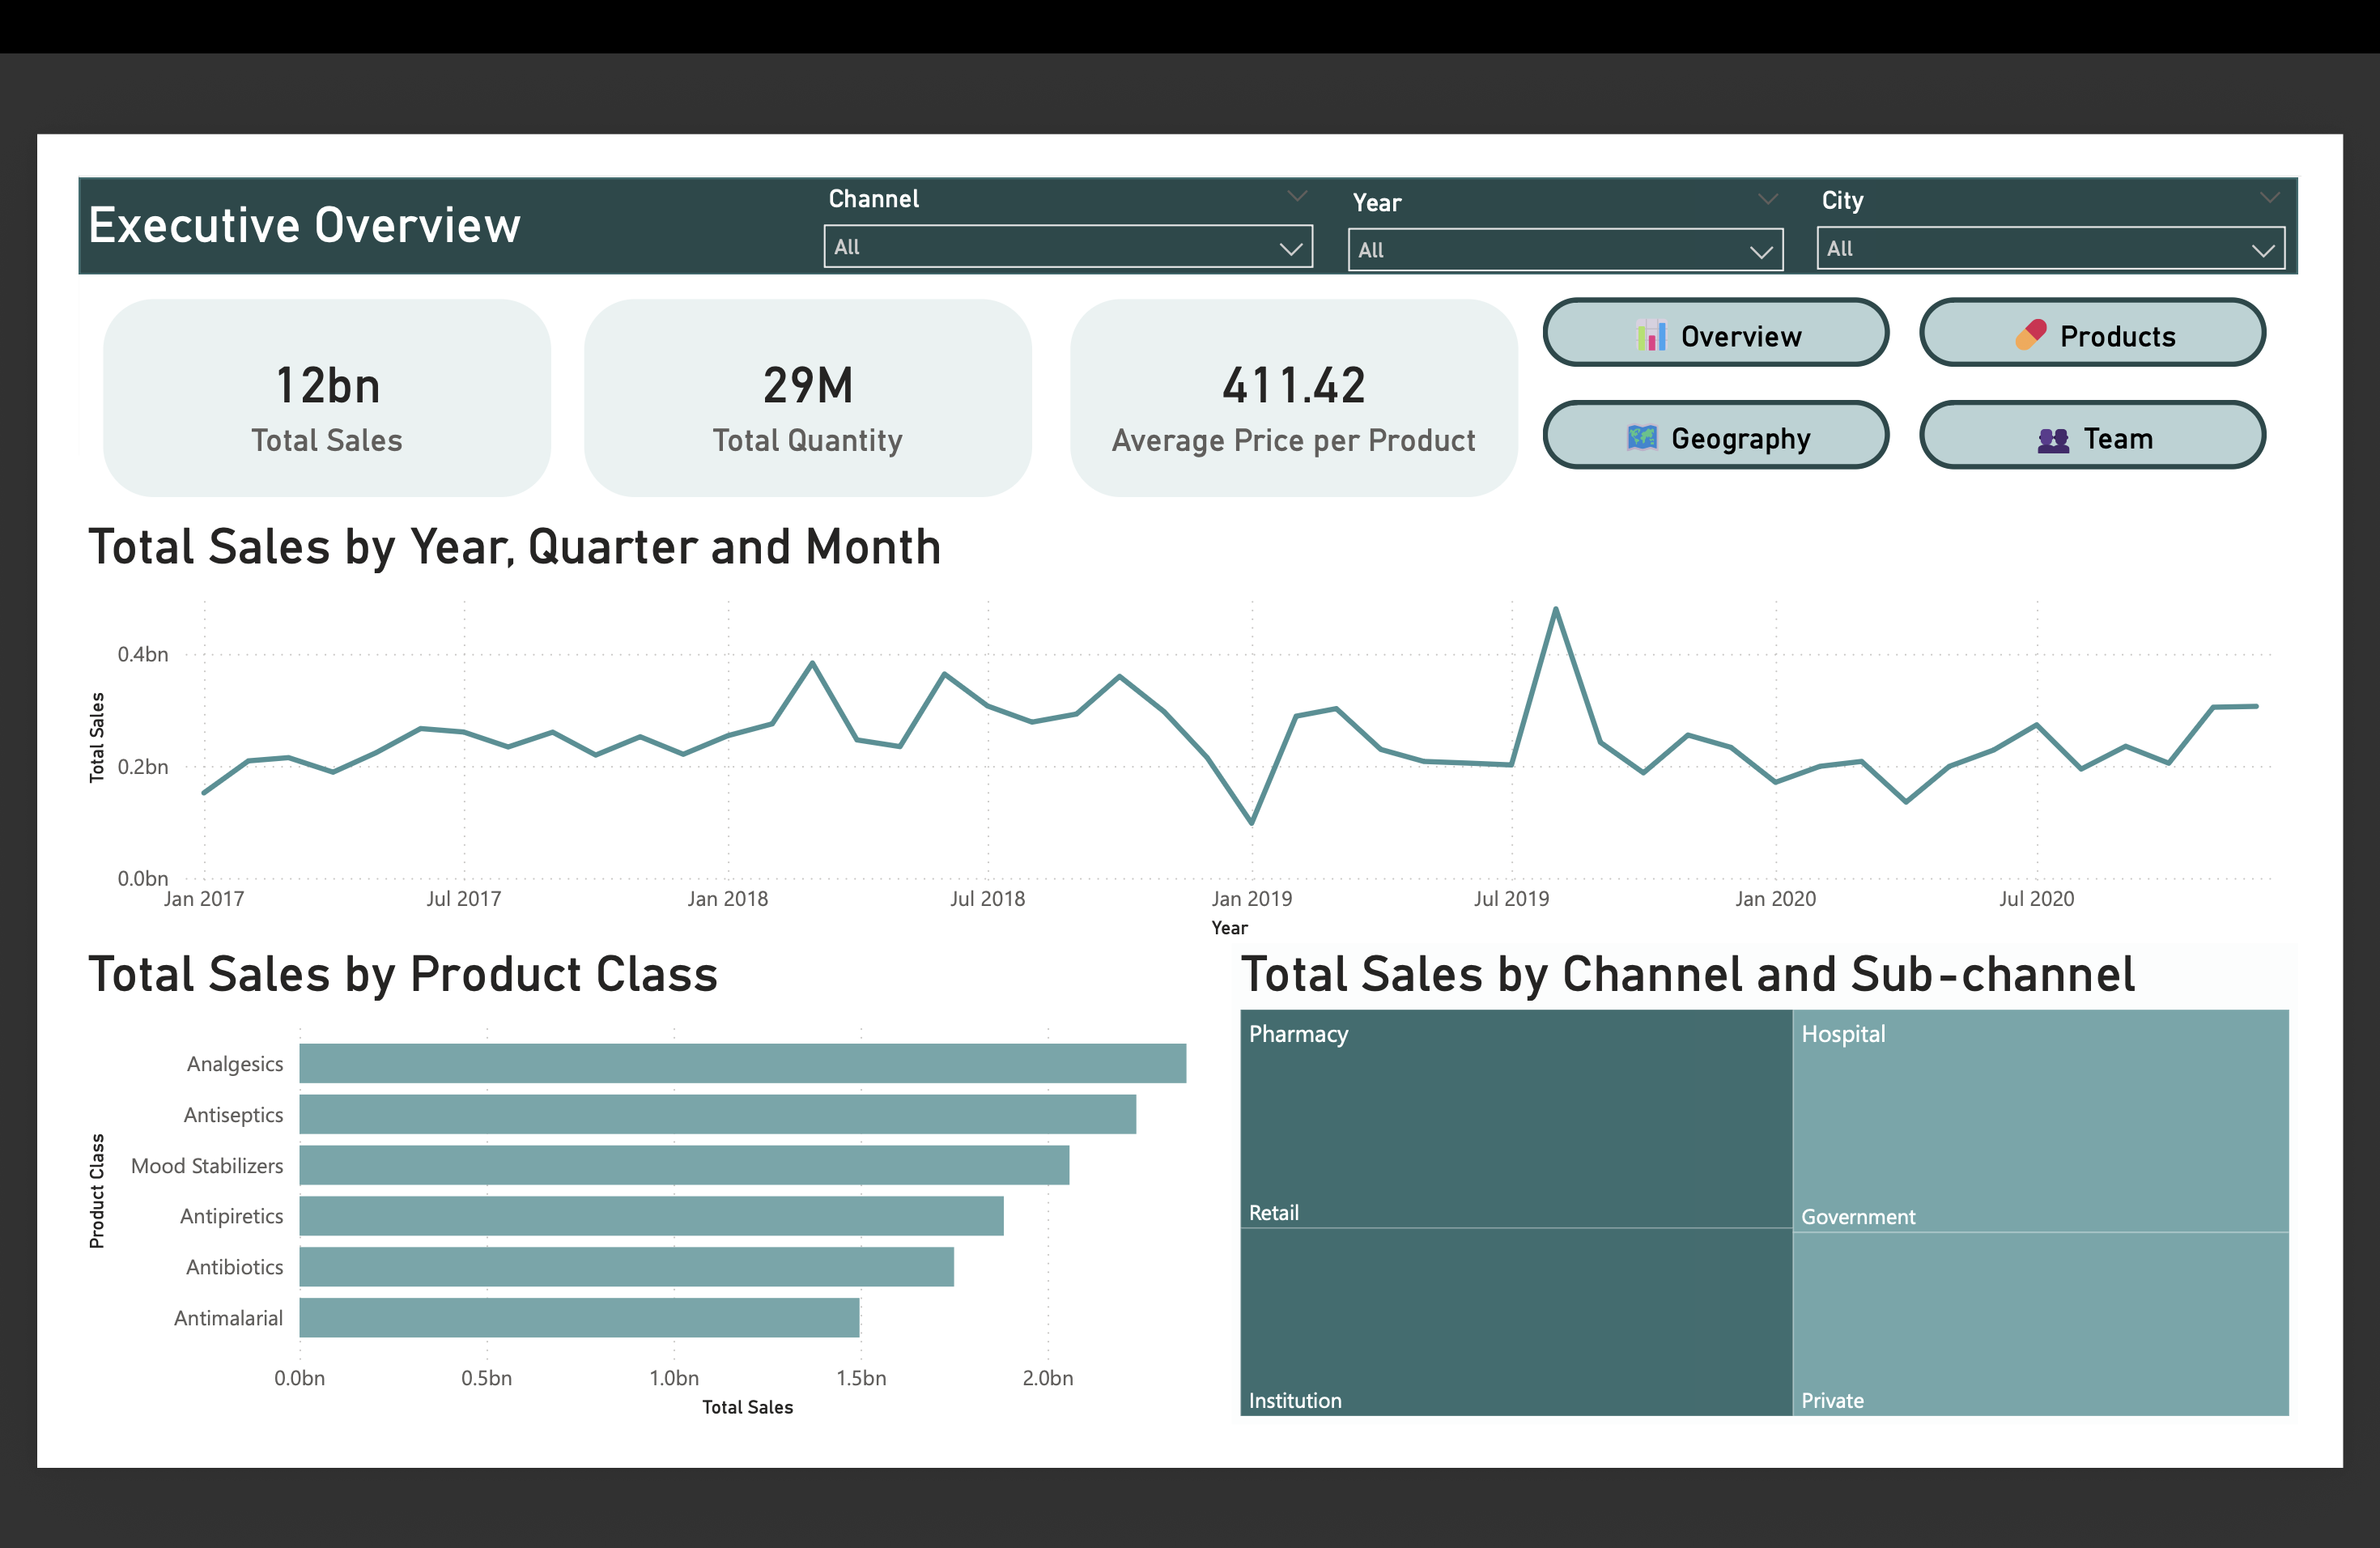

The page's visual inventory and layout, read from the dashboard file:
{"tool":"powerbi","page":{"name":"Executive Overview","canvas":[1280,720],"ordinal":0},"visuals":[{"type":"shape","box":[0,0.9,1278,56],"z":0,"group":"g1"},{"type":"card","fields":{"Values":["pharma-data-cdip-final-project - pharma-data-cdip-final-project.Total Quantity"]},"box":[290,70,260,115.7],"z":0},{"type":"slicer","fields":{"Values":["pharma-data-cdip-final-project - pharma-data-cdip-final-project.City"]},"box":[991.5,1.3,289.1,55],"z":1000,"group":"g1"},{"type":"card","fields":{"Values":["pharma-data-cdip-final-project - pharma-data-cdip-final-project.Average Price per Product"]},"box":[570,70,260,115.7],"z":1000},{"type":"slicer","fields":{"Values":["pharma-data-cdip-final-project - pharma-data-cdip-final-project.Channel"]},"box":[419.4,0,301.3,54.5],"z":2000,"group":"g1"},{"type":"lineChart","fields":{"Y":["pharma-data-cdip-final-project - pharma-data-cdip-final-project.Total Sales"],"Category":["pharma-data-cdip-final-project - pharma-data-cdip-final-project.Date.Variation.Date Hierarchy.Year","pharma-data-cdip-final-project - pharma-data-cdip-final-project.Date.Variation.Date Hierarchy.Quarter","pharma-data-cdip-final-project - pharma-data-cdip-final-project.Date.Variation.Date Hierarchy.Month"]},"box":[0,195.7,1281.4,247.1],"z":2000},{"type":"slicer","fields":{"Values":["pharma-data-cdip-final-project - pharma-data-cdip-final-project.Date.Variation.Date Hierarchy.Year"]},"box":[720.8,1.5,271,54.5],"z":3000,"group":"g1"},{"type":"clusteredBarChart","fields":{"Category":["pharma-data-cdip-final-project - pharma-data-cdip-final-project.Product Class"],"Y":["pharma-data-cdip-final-project - pharma-data-cdip-final-project.Total Sales"]},"box":[0,441.9,664.2,277.2],"z":3000},{"type":"textbox","box":[0,5.7,420.1,43.7],"z":4000,"group":"g1"},{"type":"card","fields":{"Values":["pharma-data-cdip-final-project - pharma-data-cdip-final-project.Total Sales"]},"box":[12.9,70,260,115.7],"z":4000},{"type":"treemap","fields":{"Group":["pharma-data-cdip-final-project - pharma-data-cdip-final-project.Channel"],"Details":["pharma-data-cdip-final-project - pharma-data-cdip-final-project.Sub-channel"],"Values":["pharma-data-cdip-final-project - pharma-data-cdip-final-project.Total Sales"]},"box":[664.2,441.9,613.4,277.2],"z":5000},{"type":"group","id":"g1","title":"Group 1","box":[0,0,1280.6,56.9],"z":6000},{"type":"actionButton","box":[842.9,70,200,40],"z":7000},{"type":"actionButton","box":[1060,70,200,40],"z":7001},{"type":"actionButton","box":[842.9,128.6,200,40],"z":7002},{"type":"actionButton","box":[1060,128.6,200,40],"z":7003}]}

Visuals, with their boxes on the page's 1280x720 design canvas (x1, y1, x2, y2). These are canvas units, not pixel positions in the 2380x1548 screenshot, which may show the page scaled, cropped or inside an application window:
shape: 0:1:1278:57
card - pharma-data-cdip-final-project - pharma-data-cdip-final-project.Total Quantity: 290:70:550:186
slicer - pharma-data-cdip-final-project - pharma-data-cdip-final-project.City: 992:1:1281:56
card - pharma-data-cdip-final-project - pharma-data-cdip-final-project.Average Price per Product: 570:70:830:186
slicer - pharma-data-cdip-final-project - pharma-data-cdip-final-project.Channel: 419:0:721:54
lineChart - pharma-data-cdip-final-project - pharma-data-cdip-final-project.Total Sales x pharma-data-cdip-final-project - pharma-data-cdip-final-project.Date.Variation.Date Hierarchy.Year: 0:196:1281:443
slicer - pharma-data-cdip-final-project - pharma-data-cdip-final-project.Date.Variation.Date Hierarchy.Year: 721:2:992:56
clusteredBarChart - pharma-data-cdip-final-project - pharma-data-cdip-final-project.Product Class x pharma-data-cdip-final-project - pharma-data-cdip-final-project.Total Sales: 0:442:664:719
textbox: 0:6:420:49
card - pharma-data-cdip-final-project - pharma-data-cdip-final-project.Total Sales: 13:70:273:186
treemap - pharma-data-cdip-final-project - pharma-data-cdip-final-project.Channel x pharma-data-cdip-final-project - pharma-data-cdip-final-project.Sub-channel: 664:442:1278:719
"Group 1" group: 0:0:1281:57
actionButton: 843:70:1043:110
actionButton: 1060:70:1260:110
actionButton: 843:129:1043:169
actionButton: 1060:129:1260:169
